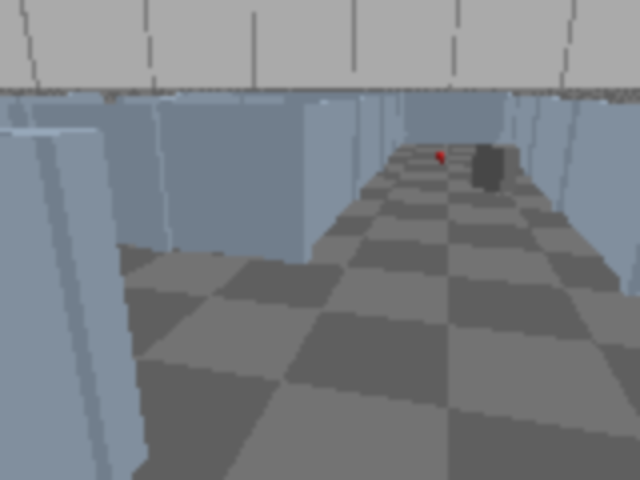obstacle: (471, 143, 521, 195)
